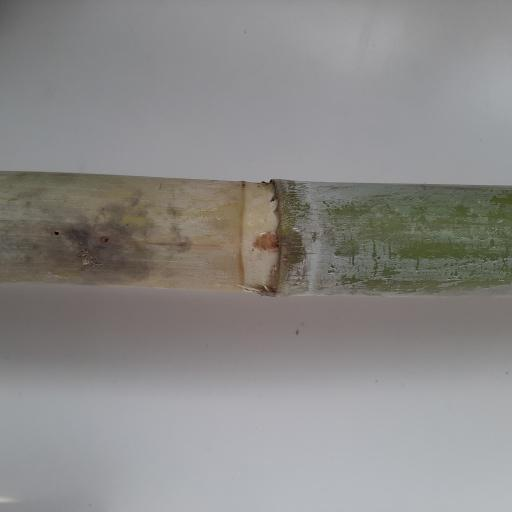Damage_Bud: (250, 229, 277, 253)
